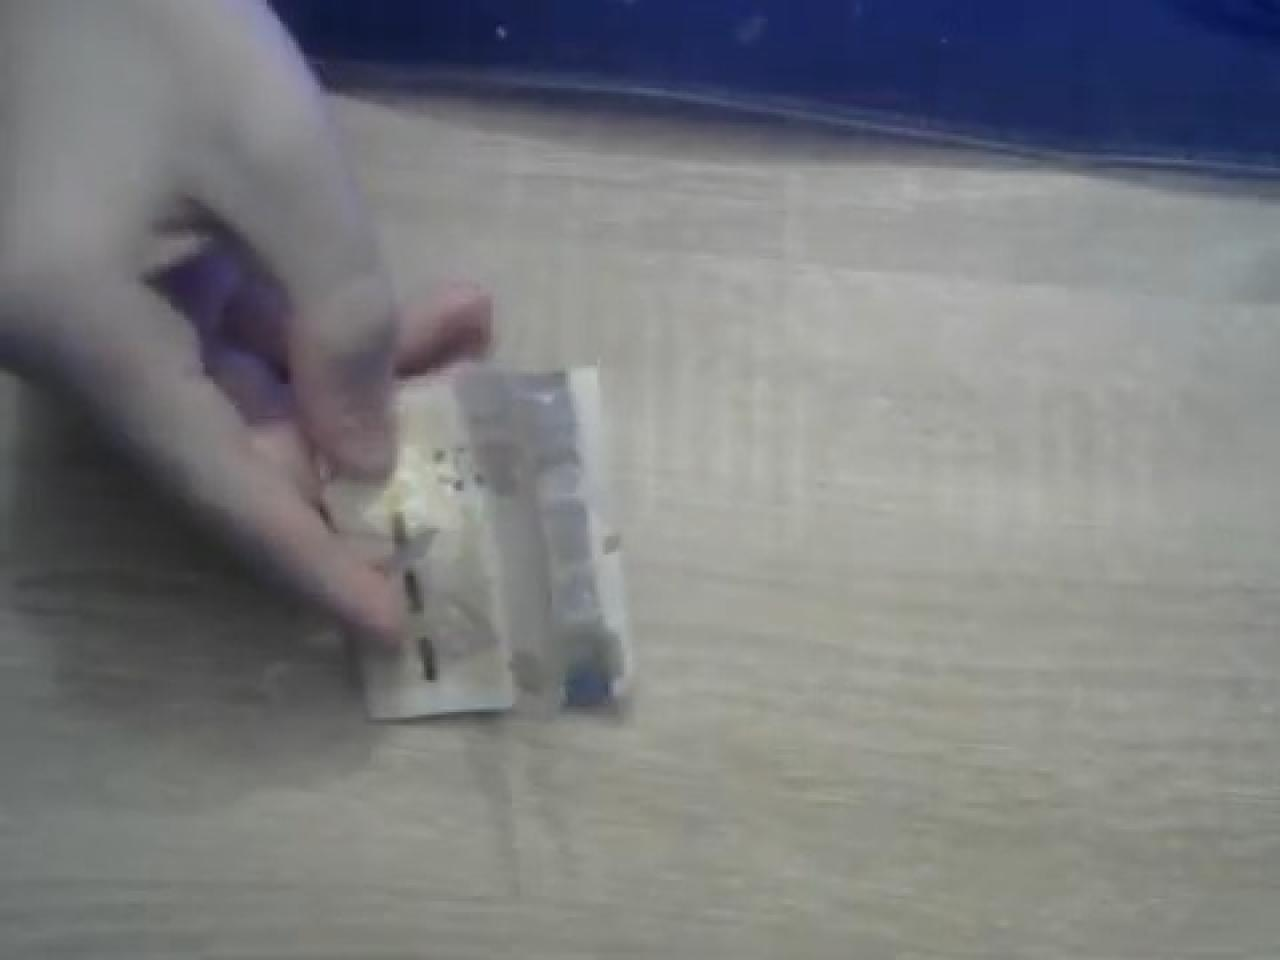10leva: (319, 358, 637, 725)
